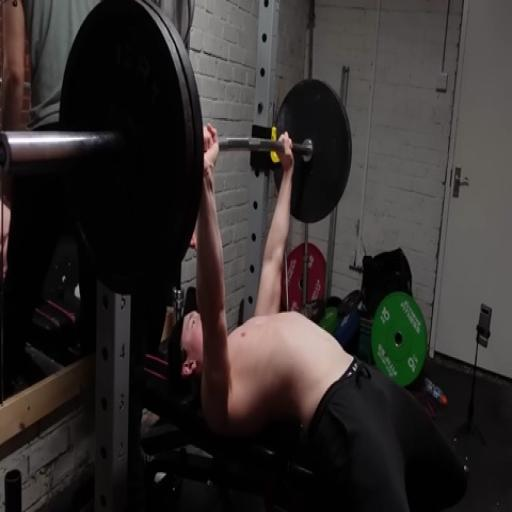exercise: (164, 121, 470, 510)
